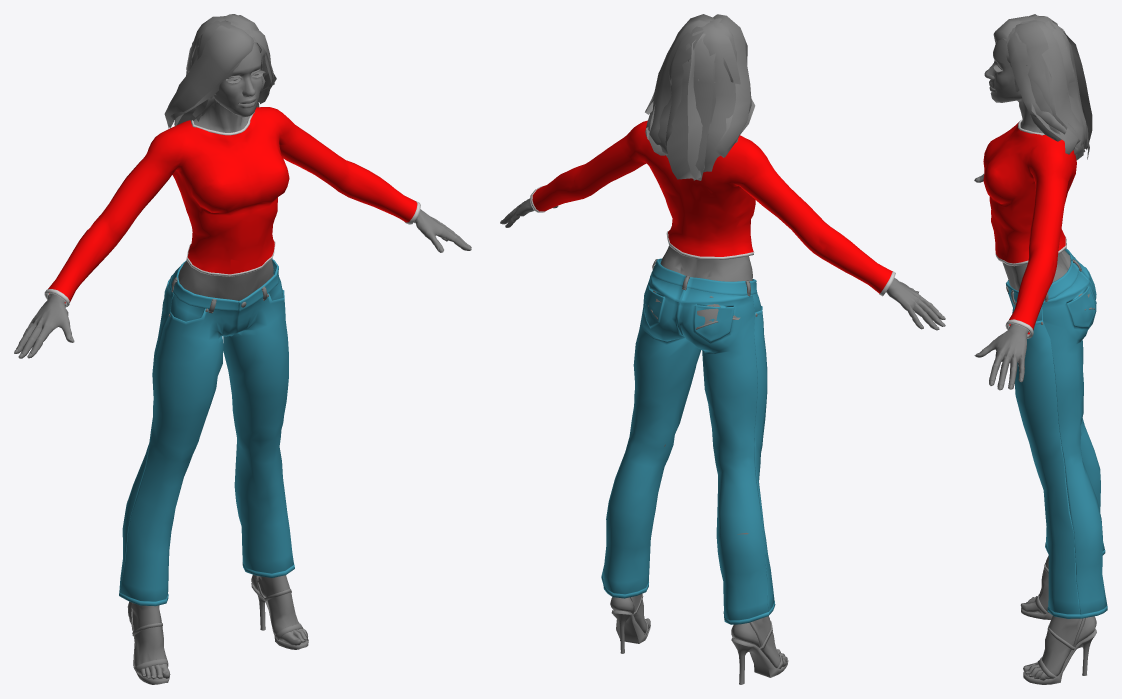
Rendered from human_scale_test.obj.
3 views of the same model, side by side, from view 1: azimuth 30°, elevation 25°; view 2: azimuth 150°, elevation 25°; view 3: azimuth 270°, elevation 25° (orthographic). The views are drawn at different scales.
Visible parts, largest first — view 1: polySurface1; view 2: polySurface1; view 3: polySurface1.
Part boxes in pixels (bbox=[...]): polySurface1: bbox=[14, 14, 471, 684]; polySurface1: bbox=[500, 14, 945, 684]; polySurface1: bbox=[974, 14, 1107, 684].
Bounding box in the file's own units: 132 × 180 × 34.68.
